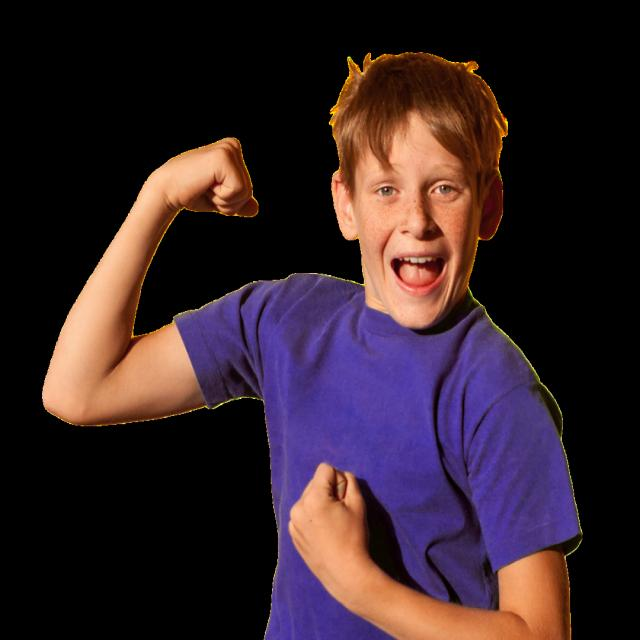child: (43, 50, 583, 640)
